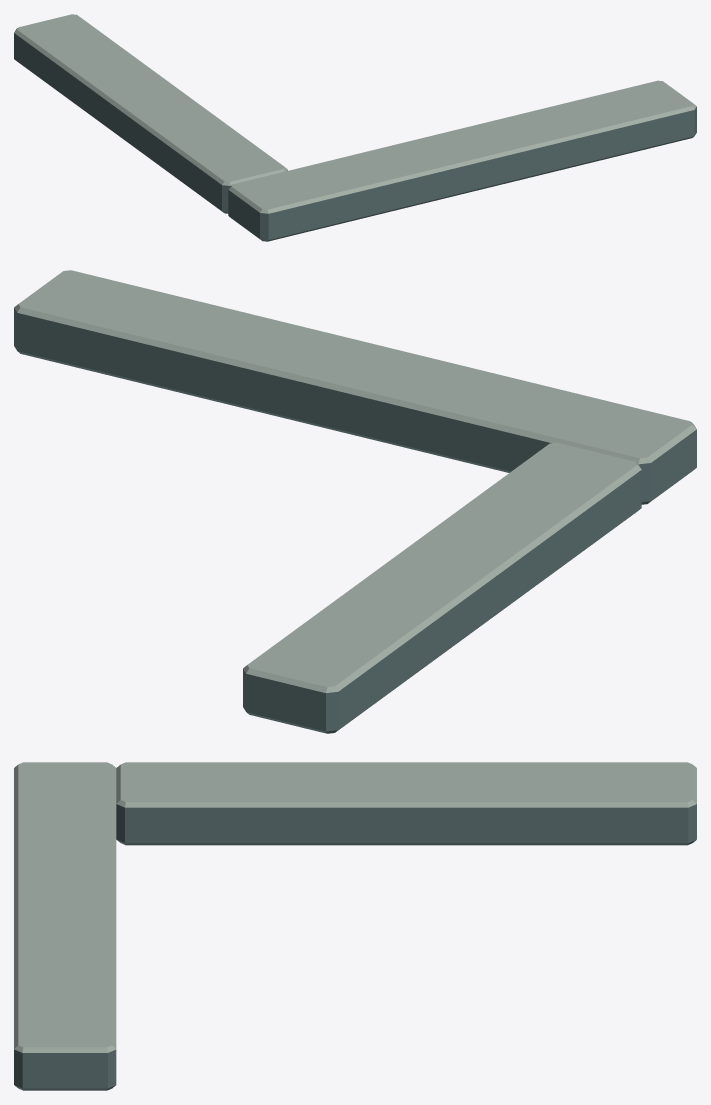
File: floor-border-corner.glb
3 renders of one model, top to bottom at view 1: azimuth 30°, elevation 25°; view 2: azimuth 150°, elevation 25°; view 3: azimuth 270°, elevation 25°, orthographic. The views are drawn at different scales.
Visible parts, largest first — view 1: floor-border-corner__body; view 2: floor-border-corner__body; view 3: floor-border-corner__body.
Part boxes in pixels (x1,y1,x2,y2): floor-border-corner__body: (14,14,696,241); floor-border-corner__body: (14,270,696,733); floor-border-corner__body: (14,762,696,1090).
Size of the model in its own units: 2 by 0.14 by 2.
